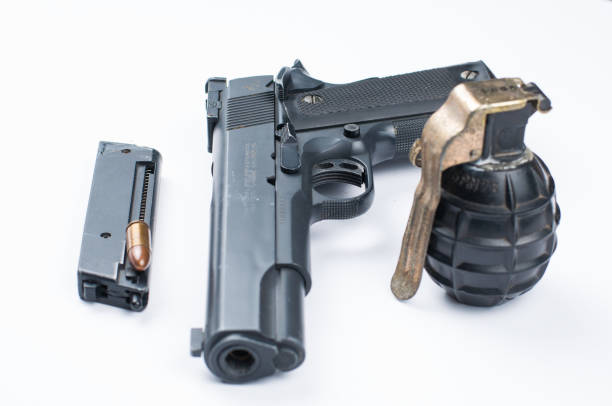e1: (391, 73, 561, 305)
